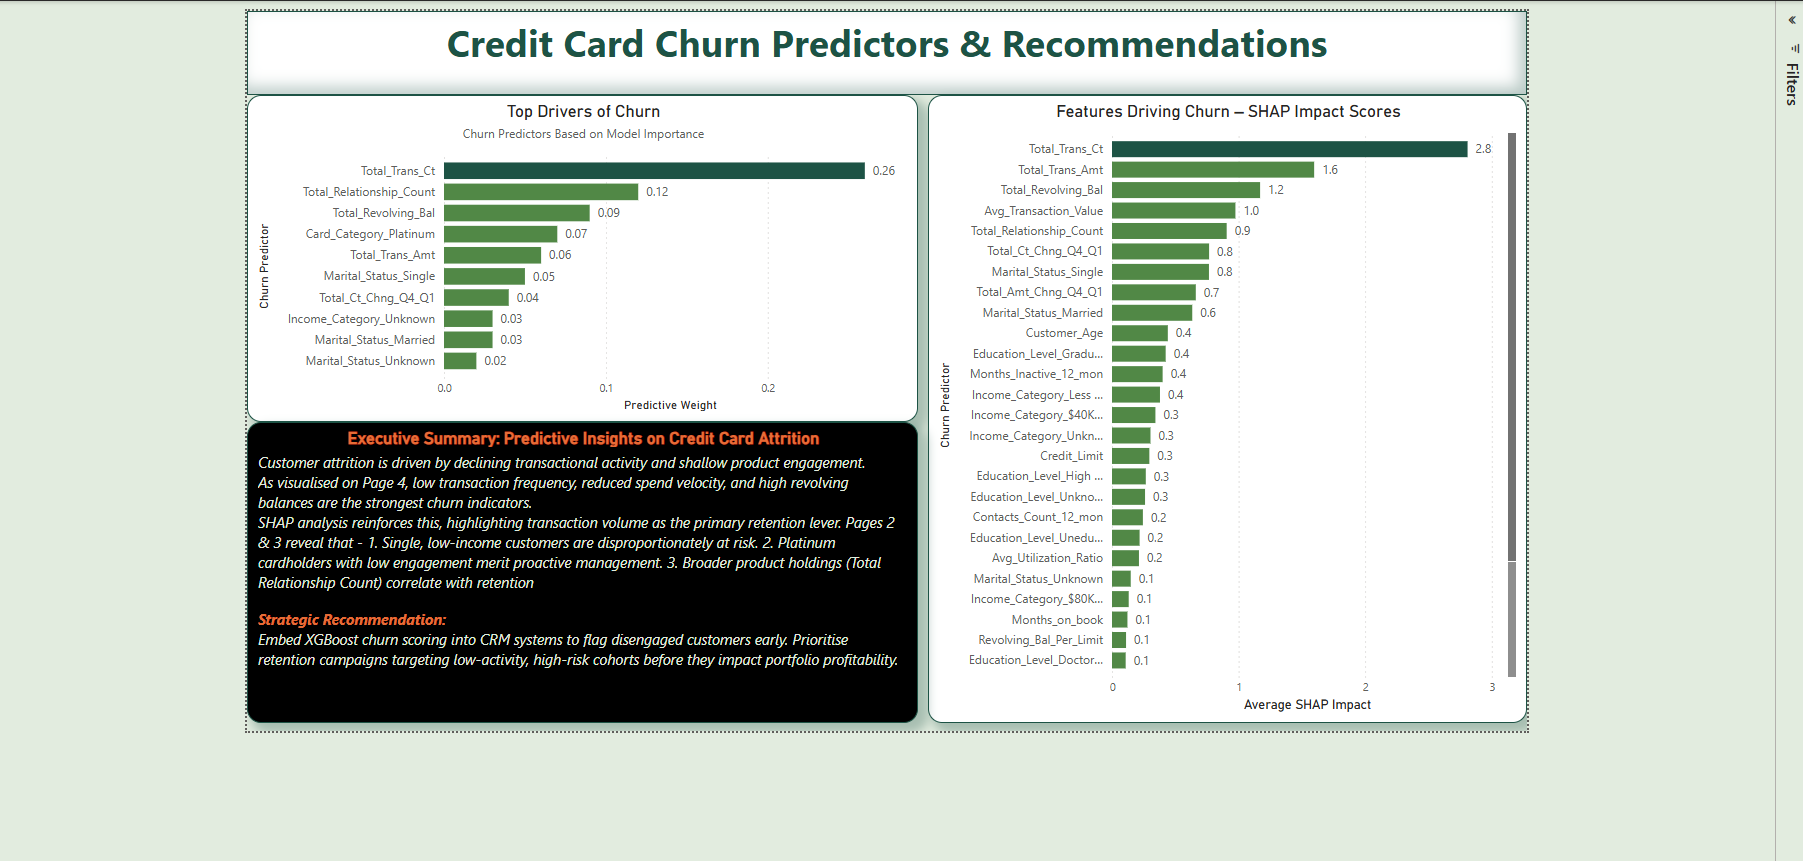

This screenshot's page, from the dashboard's own definition file:
{"tool":"powerbi","page":{"name":"Influencers and Recommendations","canvas":[1280,720],"ordinal":3},"visuals":[{"type":"clusteredBarChart","title":"Top Drivers of Churn ","fields":{"Y":["Avg(feature_importance.model.feature_importances_)"],"Category":["feature_importance.feature_names"]},"box":[0,84,671,327],"z":0},{"type":"textbox","box":[0,0,1280,84],"z":1000},{"type":"clusteredBarChart","title":"Features Driving Churn – SHAP Impact Scores","fields":{"Category":["shap_feature_importances.shap_feature_names"],"Y":["Avg(shap_feature_importances.shap_feature _values)"]},"box":[681,84,599,628],"z":2000},{"type":"textbox","title":"Executive Summary: Predictive Insights on Credit Card Attrition","box":[0,411,671,301],"z":3000}]}

Visuals, with their boxes on the page's 1280x720 design canvas (x1, y1, x2, y2). These are canvas units, not pixel positions in the 1803x861 screenshot, which may show the page scaled, cropped or inside an application window:
"Top Drivers of Churn " clusteredBarChart: detection(0, 84, 671, 411)
textbox: detection(0, 0, 1280, 84)
"Features Driving Churn – SHAP Impact Scores" clusteredBarChart: detection(681, 84, 1280, 712)
"Executive Summary: Predictive Insights on Credit Card Attrition" textbox: detection(0, 411, 671, 712)
